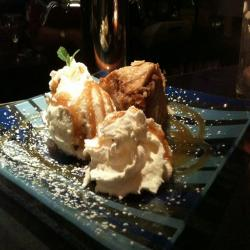chantilly: (73, 105, 187, 207)
icecream: (36, 60, 129, 170), (100, 54, 189, 152)
